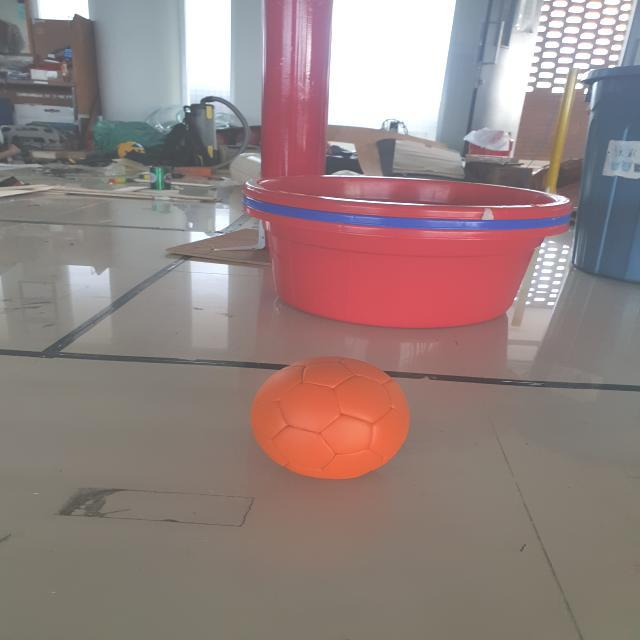bola: (238, 349, 418, 489)
